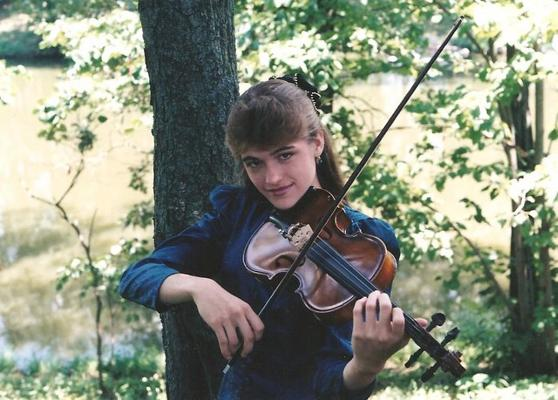person: (122, 79, 431, 400)
